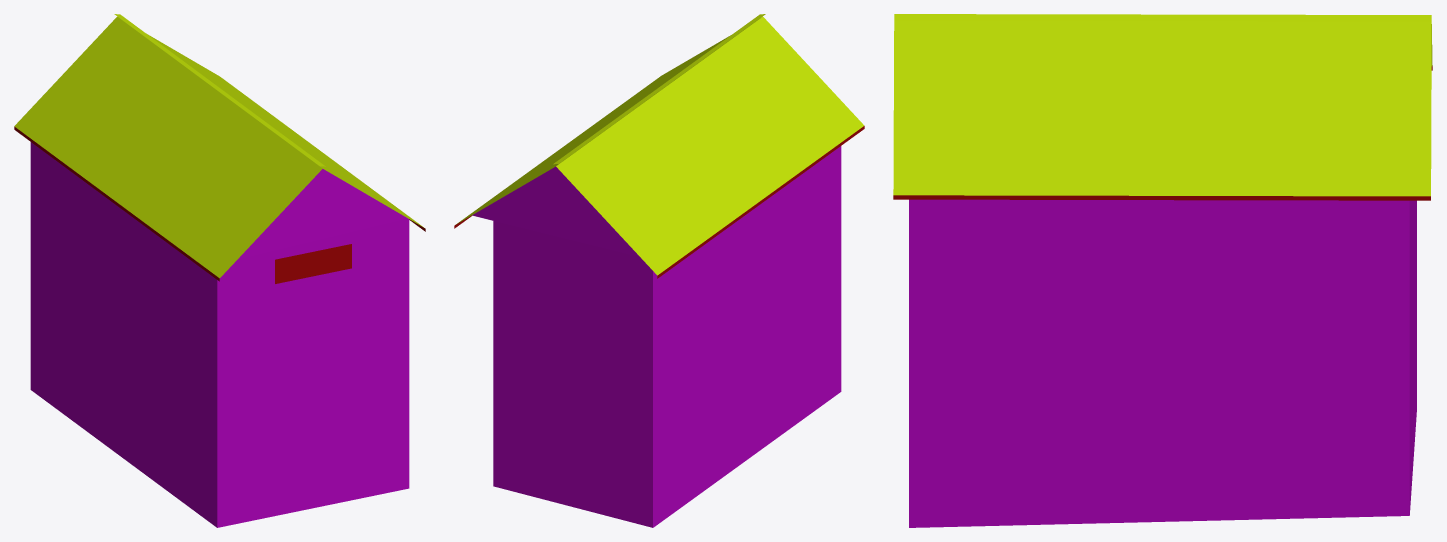
The model's file is bgj_233.glb.
3 renders of one model, left to right at view 1: azimuth 30°, elevation 25°; view 2: azimuth 150°, elevation 25°; view 3: azimuth 270°, elevation 25°, orthographic. The views are drawn at different scales.
Parts seen in each view (by area): view 1: bgj_233; view 2: bgj_233; view 3: bgj_233.
Boxes of the visible parts, bbox=[...] form: bgj_233: bbox=[14, 14, 425, 527]; bgj_233: bbox=[454, 14, 864, 527]; bgj_233: bbox=[893, 14, 1432, 527].
Size of the model in its own units: 7.95 by 12.83 by 13.82.
